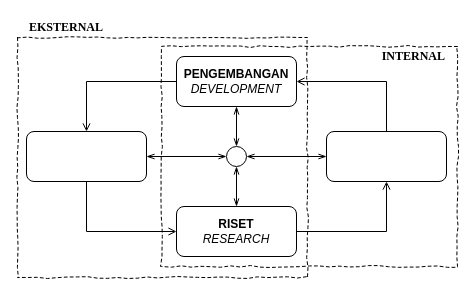
Some shapes in this 475 by 295 pixel diagram are drawn without their labels. Here are the shapes that lost their labels. From the top down, the centre of each, then its label:
point (86, 156): LAPORAN REPORT
point (386, 156): BELAJAR LEARNING
